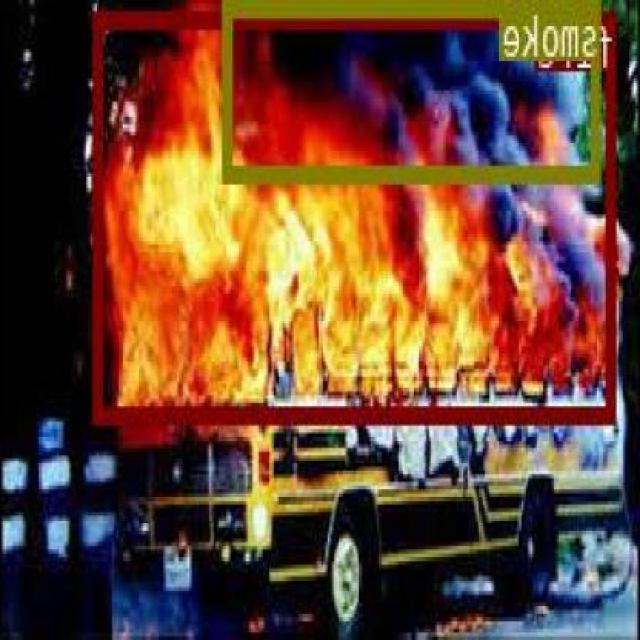Fire: (96, 12, 618, 420)
Smoke: (226, 0, 603, 180)
